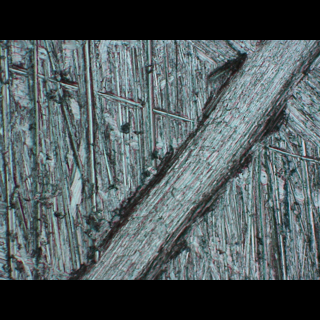d: (60, 40, 320, 278)
